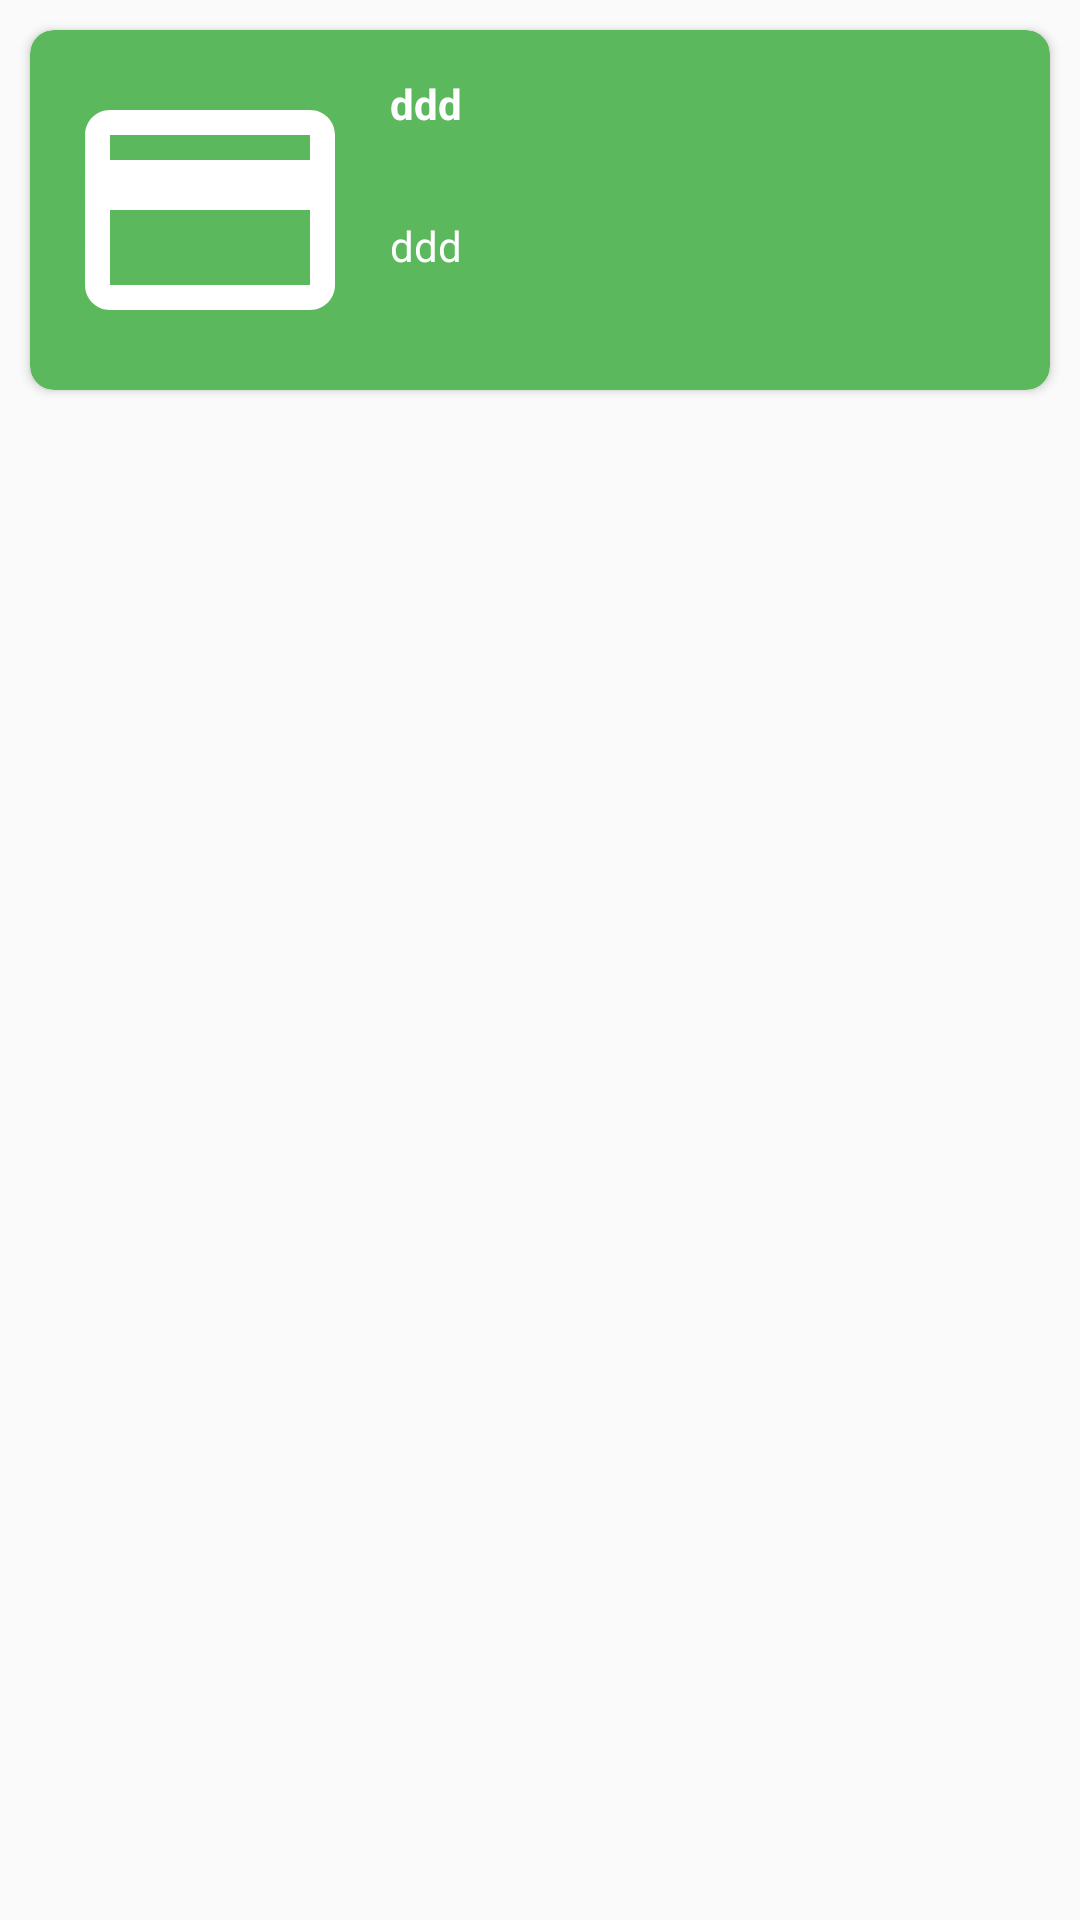

Where icons sit on this 1080px x 1920px app screen, as (left=x1, top=y1, right=x2, bottom=y2):
tarjeta: (left=85, top=110, right=335, bottom=310)
